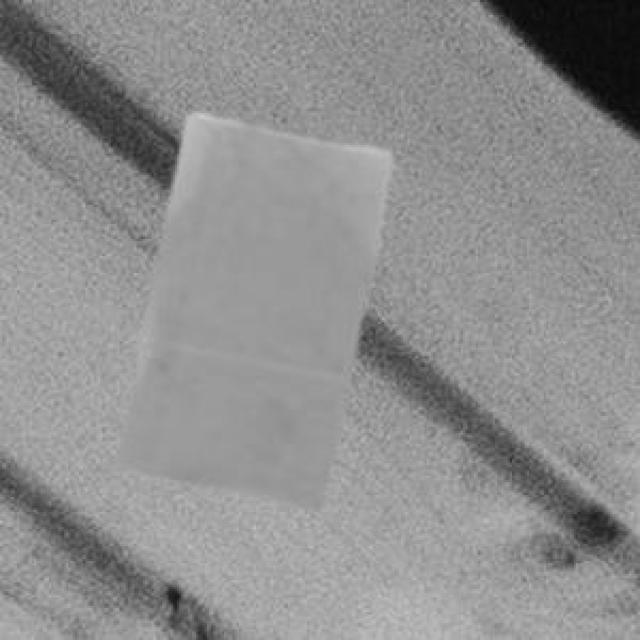paper: (115, 111, 386, 506)
